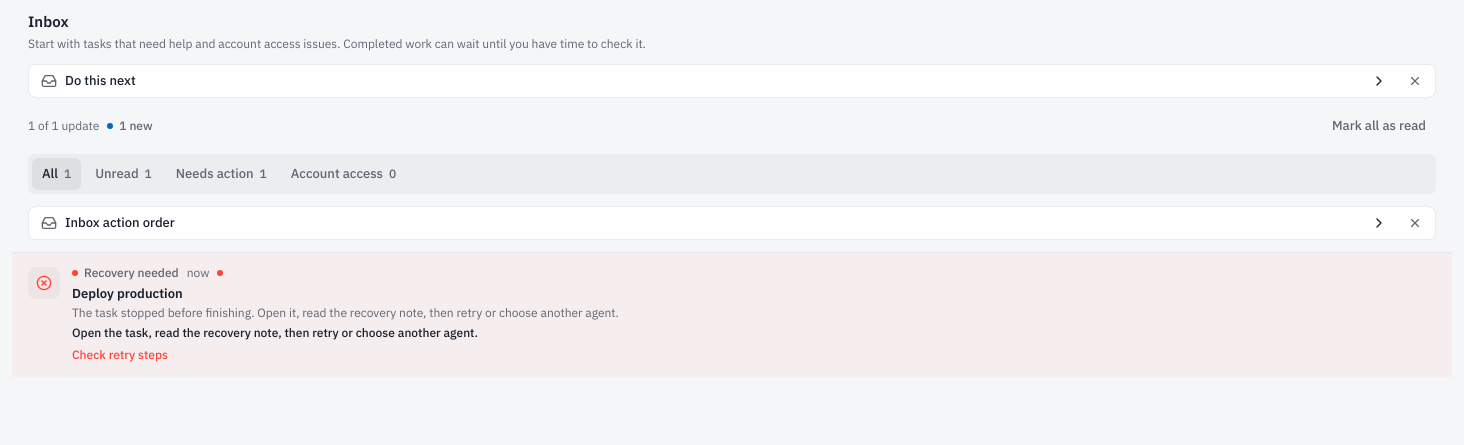
InboxView › loads persisted failed owner notifications
The image size is (1464, 445).
Click the button "Do this next".
click(100, 80)  # box [29,65,1399,97]
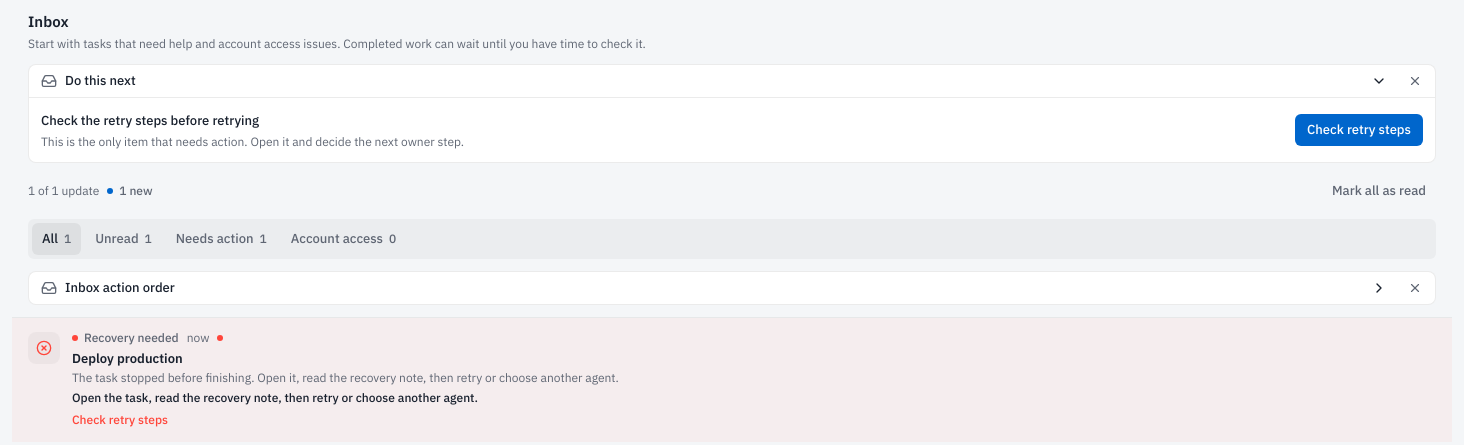
Now the button "Do this next" is expanded, box [29,65,1399,97]
Now the button "Check retry steps" is shown, box [1295,114,1423,146]
Now the element with test id "inbox-next-step" shows "Check the retry steps before retrying", box [41,112,259,129]
